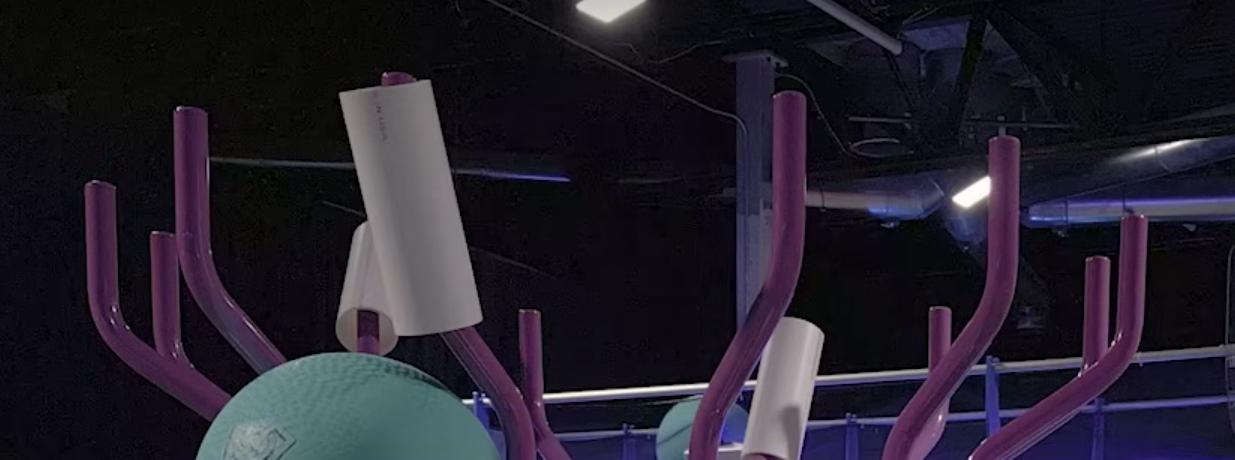algae: (197, 352, 502, 460), (656, 395, 749, 460)
coral: (339, 80, 484, 335), (740, 317, 824, 460), (335, 221, 398, 352)
